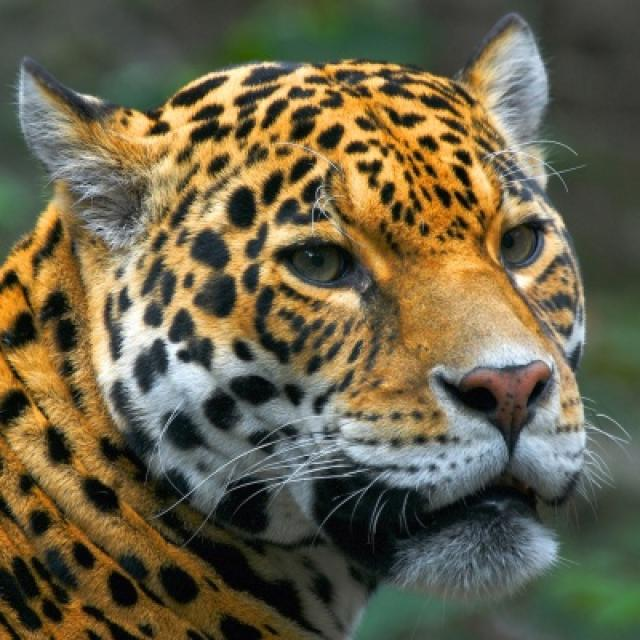Jaguar: (0, 13, 590, 638)
